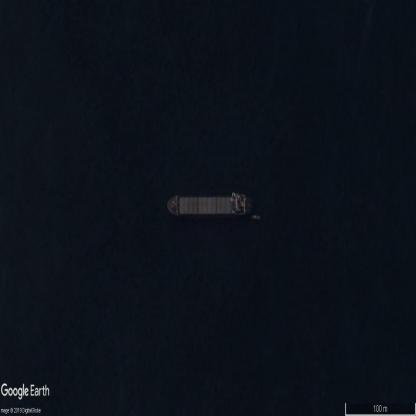ship: (168, 194, 253, 215)
